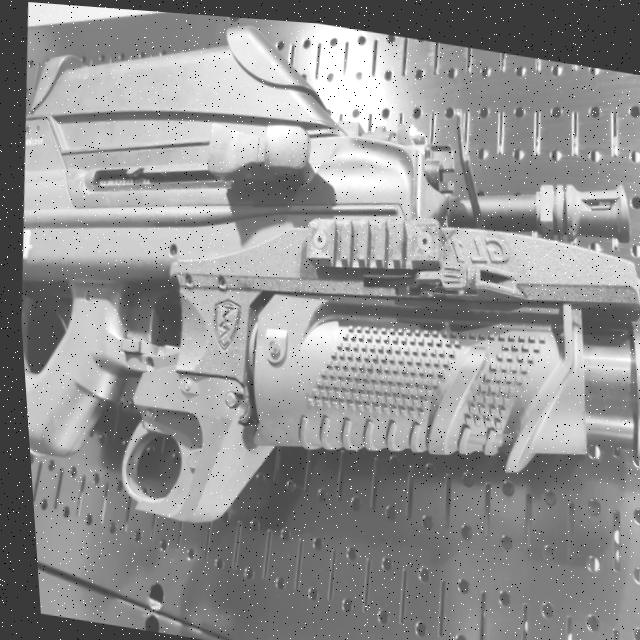firearm: (0, 0, 640, 589)
